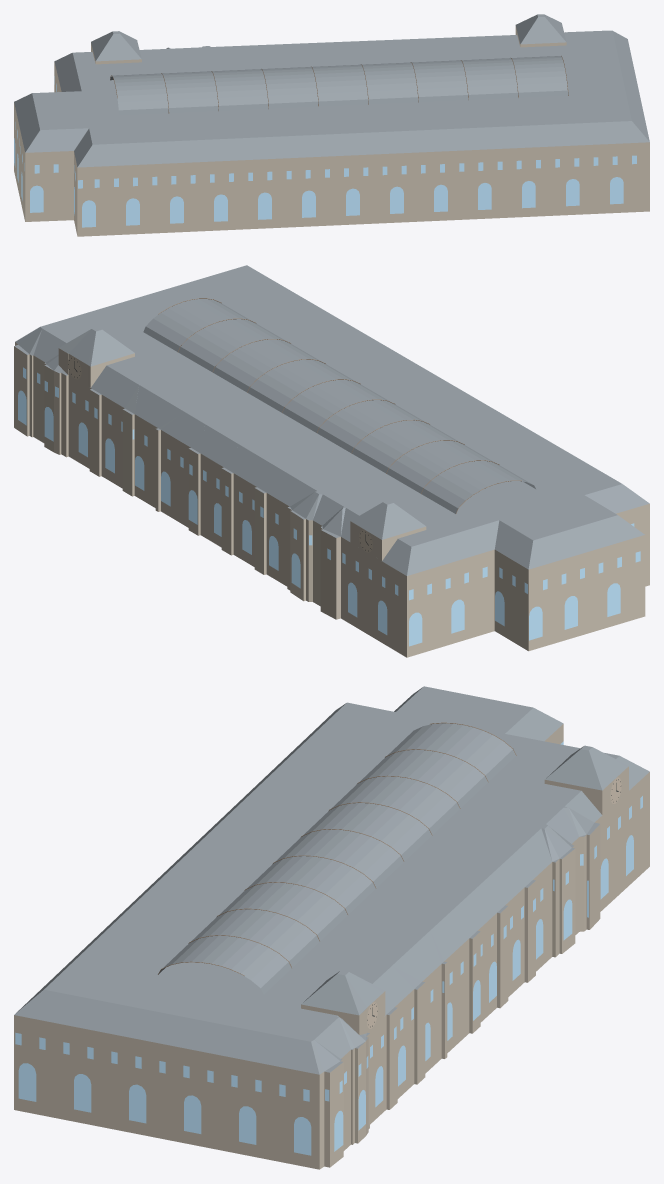
3 views of the same model, one above another, from view 1: azimuth 30°, elevation 25°; view 2: azimuth 150°, elevation 25°; view 3: azimuth 270°, elevation 25° (orthographic). The views are drawn at different scales.
Visible parts, largest first — view 1: roof, stone, window, metal; view 2: roof, stone, window, metal; view 3: roof, stone, window, metal.
Part boxes in pixels (x1,y1,x2,y2): roof: (14,14,649,167); stone: (14,26,649,236); window: (14,76,636,227); metal: (110,56,568,113); roof: (14,265,649,575); stone: (14,342,649,657); window: (18,367,640,646); metal: (158,298,521,513); roof: (14,686,649,1074); stone: (14,724,649,1169); window: (15,741,642,1155); metal: (158,722,516,975).
Bounding box in the file's own units: 198 × 35 × 140.
